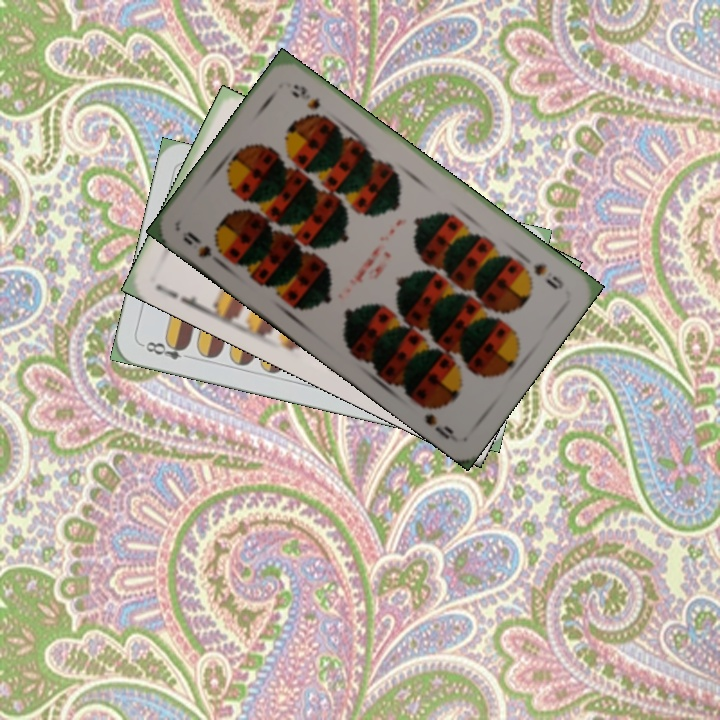E7: (151, 279, 206, 313)
E8: (138, 336, 191, 363)
S9: (178, 227, 227, 269), (529, 259, 567, 292)
